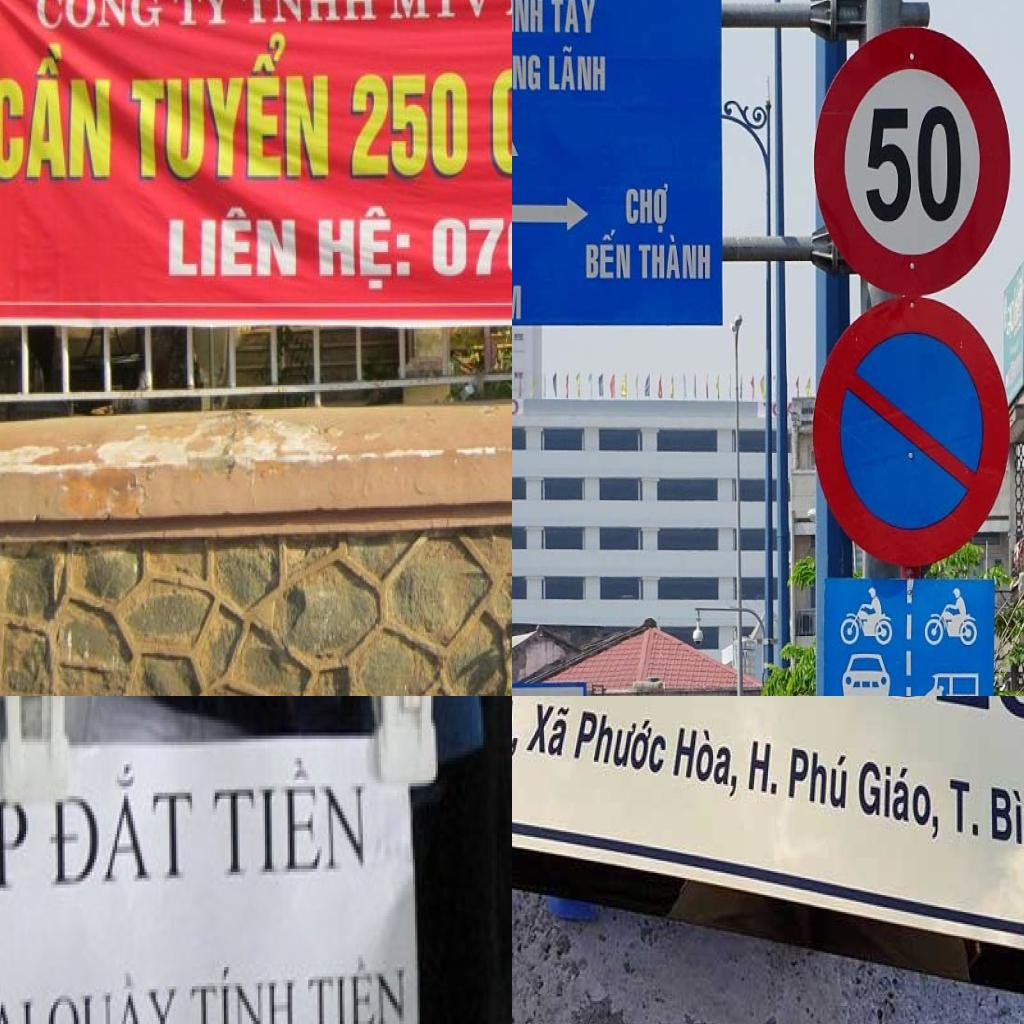text: (124, 23, 334, 184), (206, 755, 378, 894), (44, 758, 201, 897), (0, 30, 119, 188), (342, 71, 475, 191), (865, 104, 963, 228), (165, 204, 300, 281), (314, 201, 411, 296), (46, 960, 185, 1024), (853, 753, 942, 849), (567, 702, 671, 784), (303, 951, 412, 1024), (185, 957, 303, 1024), (664, 716, 742, 801), (0, 754, 37, 910), (784, 738, 856, 817), (33, 0, 162, 35), (522, 696, 576, 770), (241, 0, 382, 28), (638, 232, 711, 284), (983, 779, 1024, 859), (941, 772, 984, 847), (741, 730, 782, 804), (547, 44, 607, 94), (583, 226, 633, 284), (623, 180, 670, 236), (386, 0, 499, 21), (548, 0, 601, 37), (170, 0, 237, 28), (512, 44, 543, 94), (512, 0, 545, 35), (512, 281, 525, 322)
